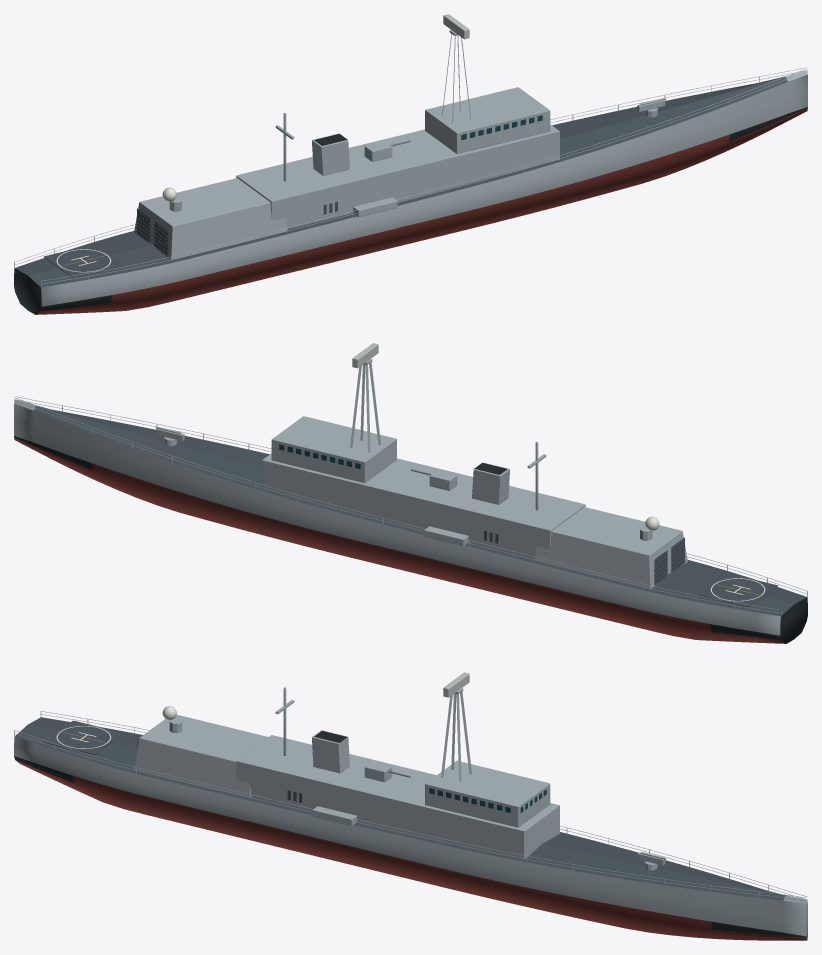
The model's file is cw90_perry.glb.
3 views of the same model, one above another, from view 1: azimuth 30°, elevation 25°; view 2: azimuth 150°, elevation 25°; view 3: azimuth 330°, elevation 25° (orthographic).
Visible parts, largest first — view 1: cw90_perry; view 2: cw90_perry; view 3: cw90_perry.
Part boxes in pixels (bbox=[...]): cw90_perry: bbox=[14, 14, 807, 314]; cw90_perry: bbox=[14, 343, 807, 643]; cw90_perry: bbox=[14, 672, 807, 940].
Bounding box in the file's own units: 10 × 2.46 × 1.02.
